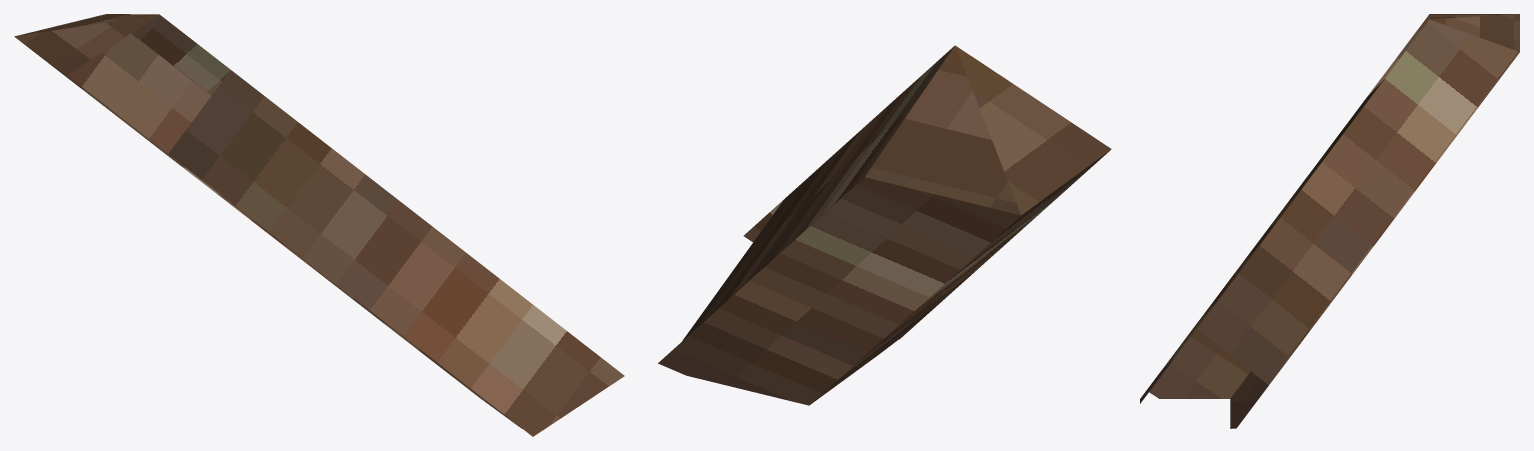
Rendered from pine_thin_branch_45_diagonal.obj.
3 renders of one model, left to right at view 1: azimuth 30°, elevation 25°; view 2: azimuth 150°, elevation 25°; view 3: azimuth 270°, elevation 25°, orthographic. The views are drawn at different scales.
Visible parts, largest first — view 1: cube_selection; view 2: cube_selection; view 3: cube_selection.
Part boxes in pixels (box(x1,y1,x2,y2)): cube_selection: box(14, 14, 624, 436); cube_selection: box(658, 45, 1111, 405); cube_selection: box(1140, 14, 1519, 428).
Size of the model in its own units: 1.31 by 1.12 by 1.31.
